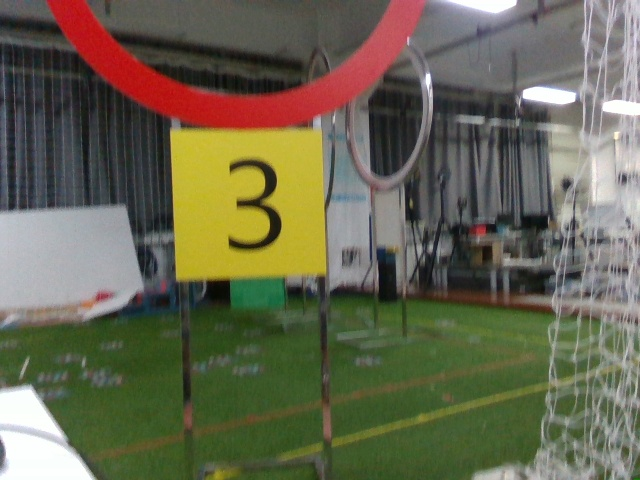target: (174, 145, 322, 279)
